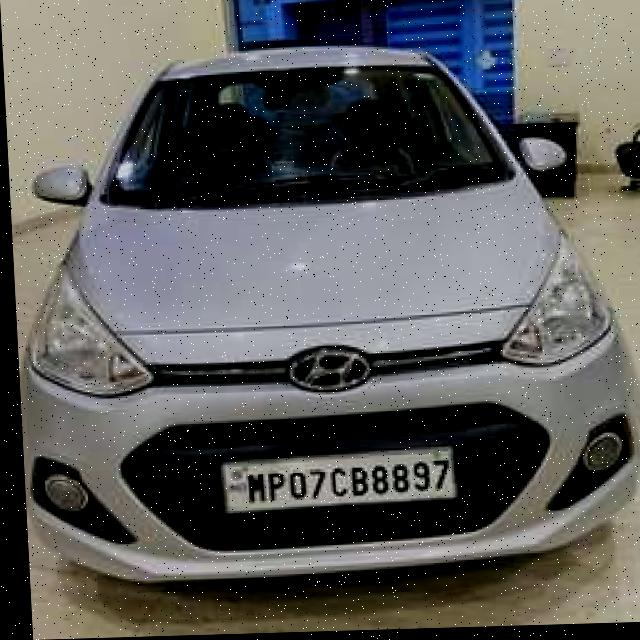plate: (213, 445, 454, 519)
